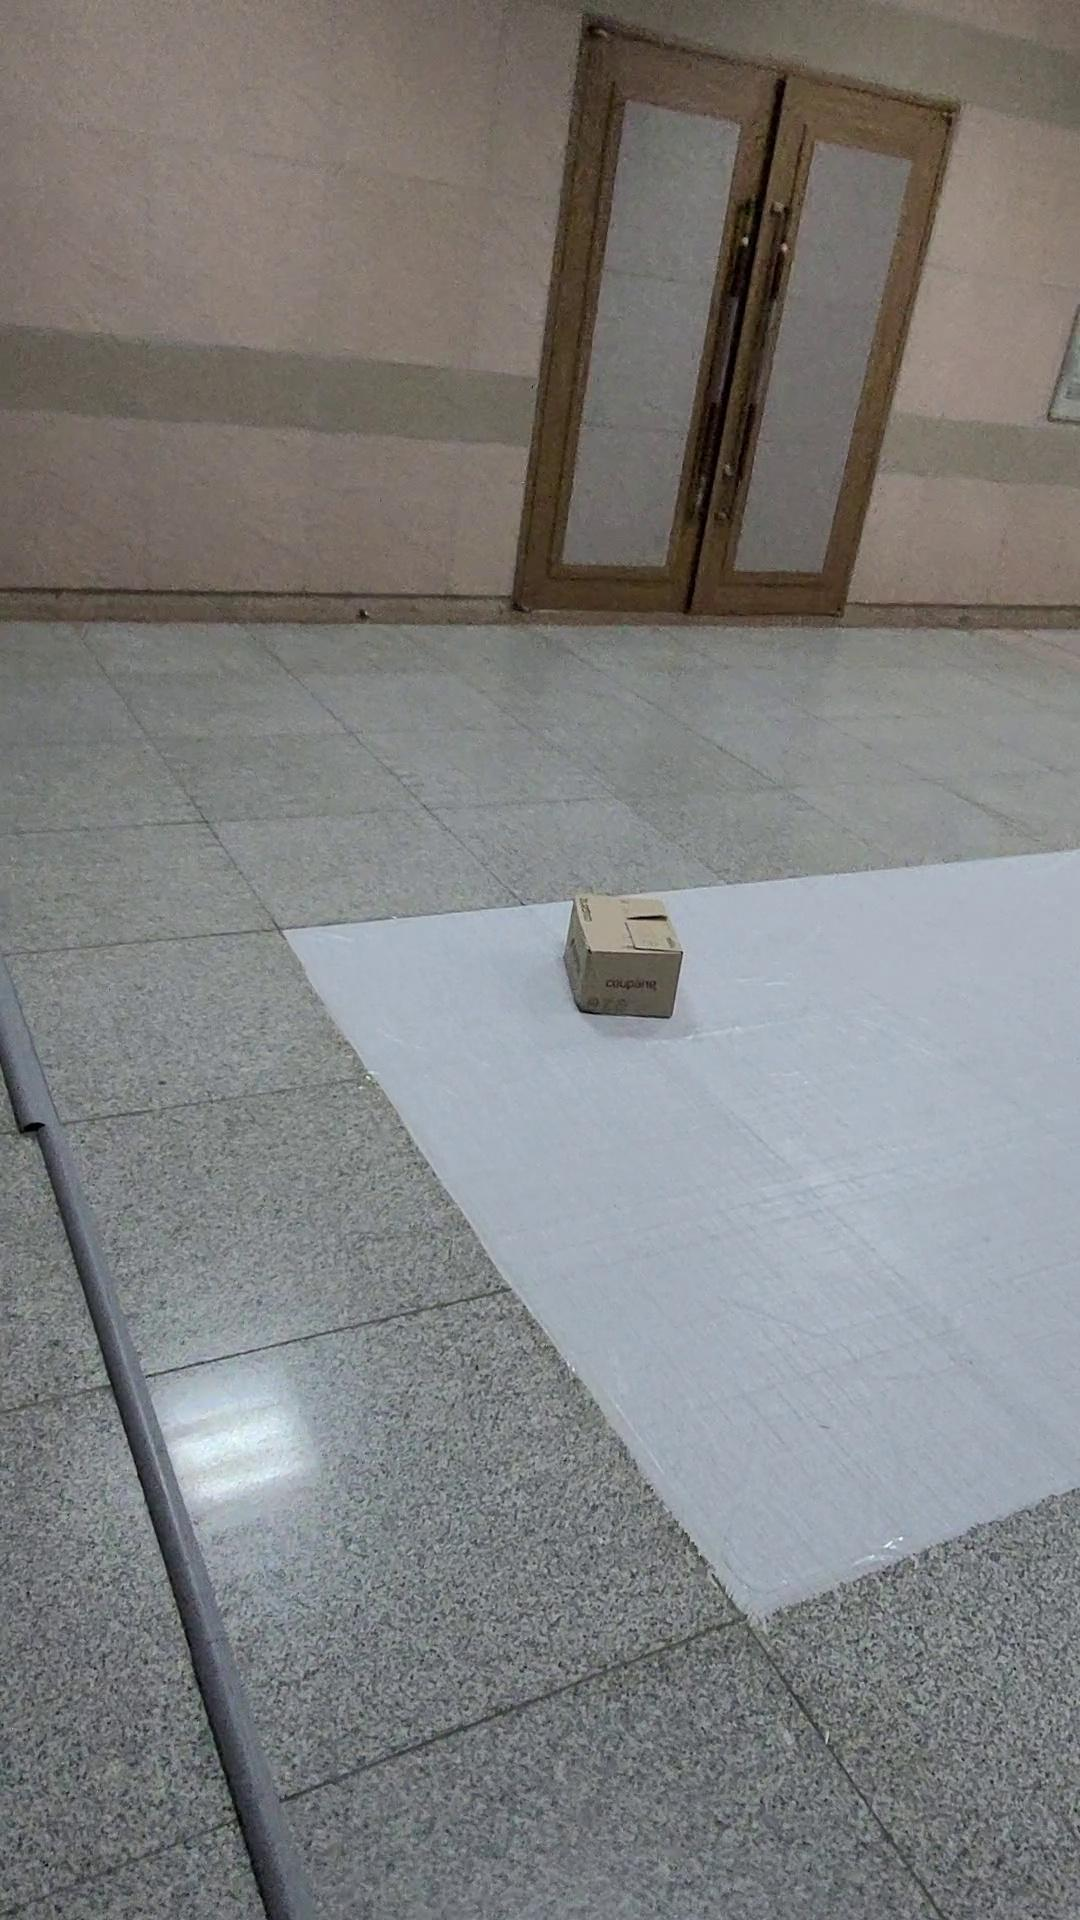Box: (553, 885, 698, 1033)
